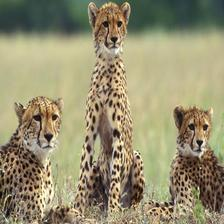Cheetah: (72, 0, 144, 224), (0, 92, 82, 222), (148, 101, 224, 223)
